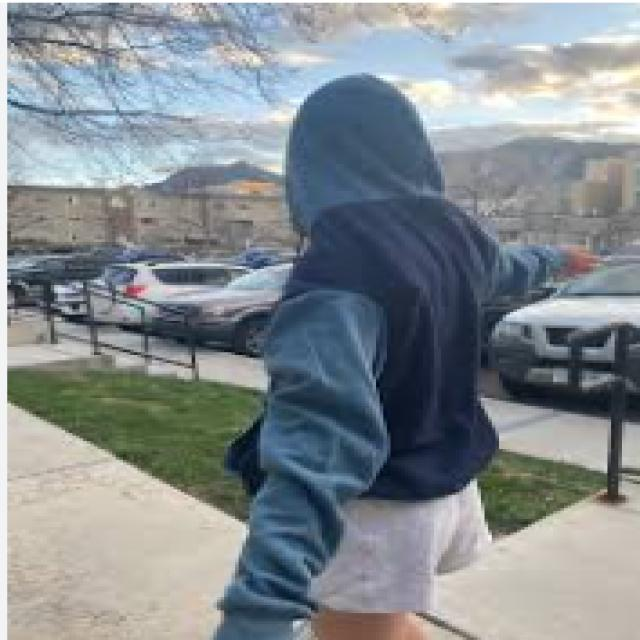4_capucha: (282, 70, 450, 237)
